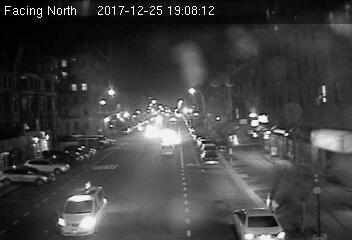car: (58, 181, 109, 237), (231, 205, 287, 240), (200, 150, 220, 166), (157, 143, 177, 158)
